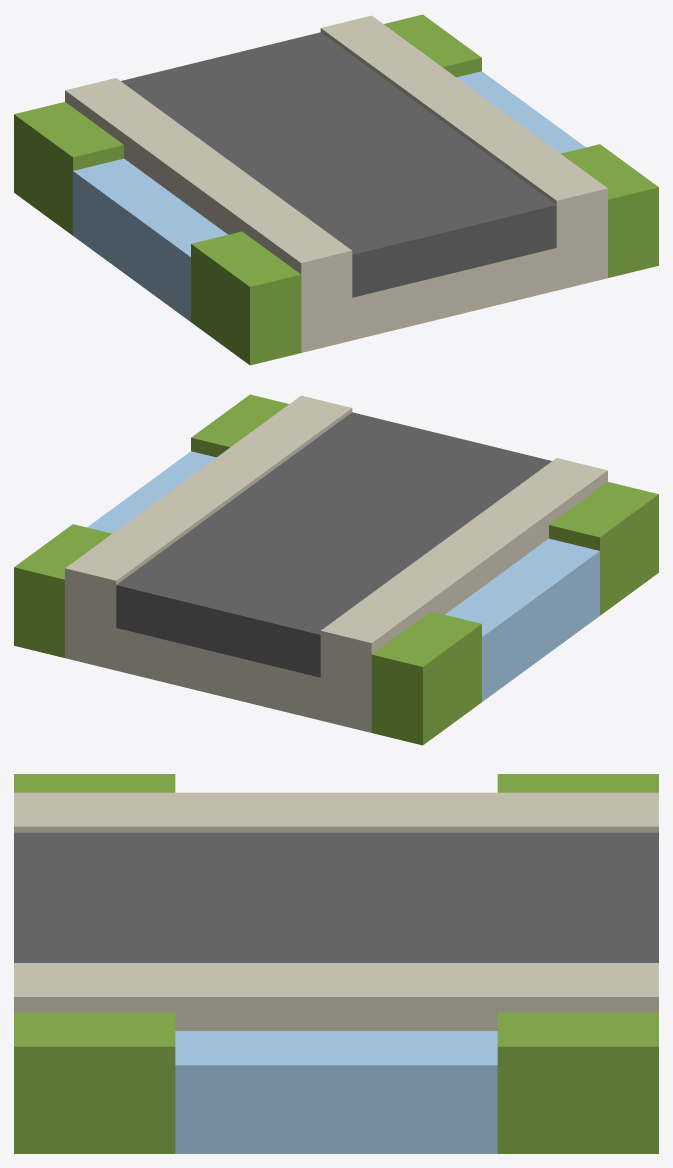
The model's file is tile119.fbx.
3 renders of one model, top to bottom at view 1: azimuth 30°, elevation 25°; view 2: azimuth 150°, elevation 25°; view 3: azimuth 270°, elevation 25°, orthographic. The views are drawn at different scales.
Visible parts, largest first — view 1: tile119; view 2: tile119; view 3: tile119.
Boxes of the visible parts, left/top/right/bottom form: tile119: left=14, top=14, right=658, bottom=365; tile119: left=14, top=394, right=658, bottom=745; tile119: left=14, top=774, right=658, bottom=1153.
Size of the model in its own units: 10 by 2.1 by 10.
